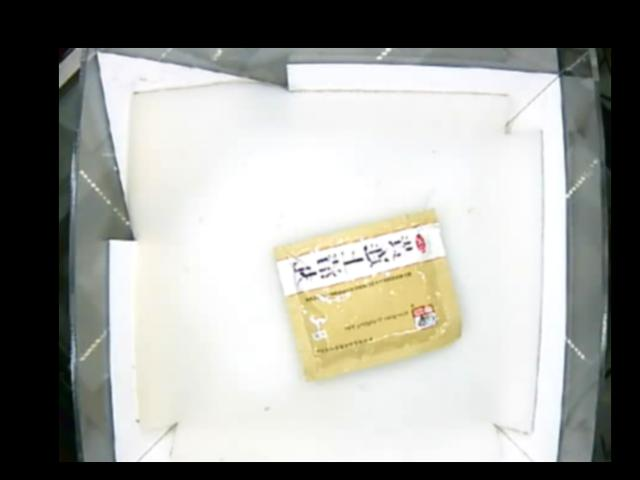Medicine: (276, 209, 461, 380)
